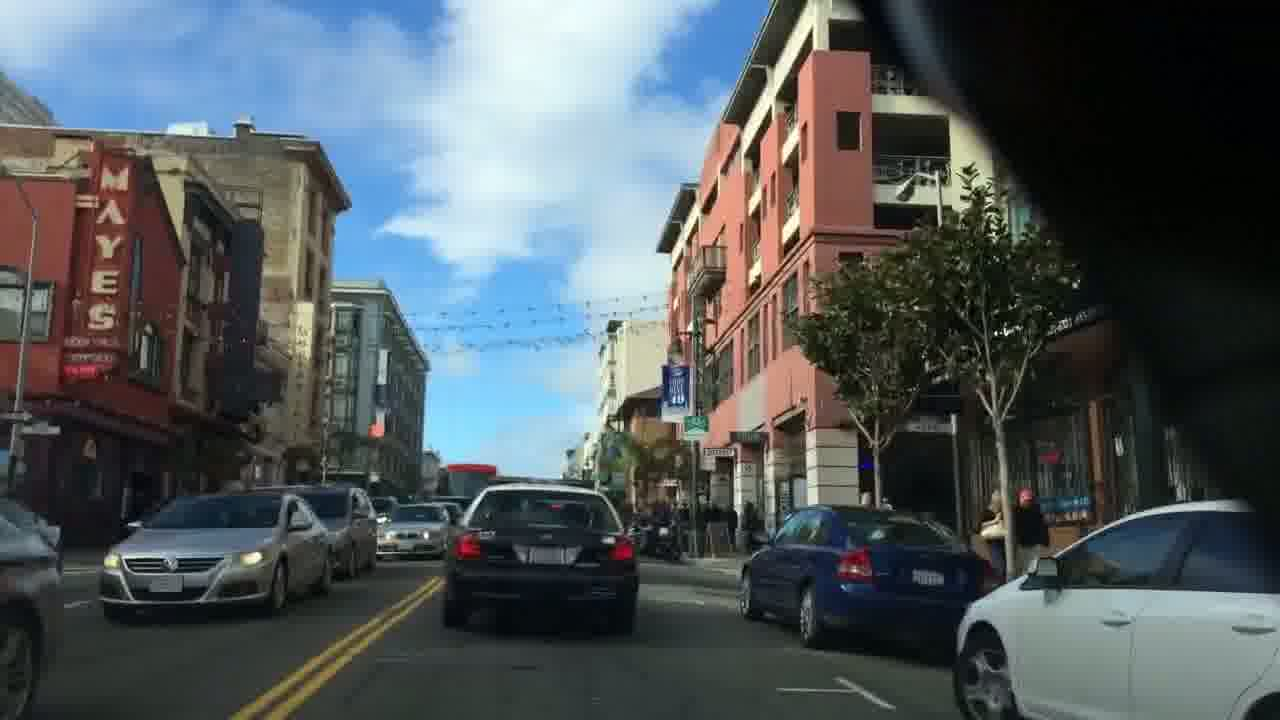car: (949, 495, 1280, 720), (736, 502, 986, 649), (95, 489, 333, 625), (440, 480, 640, 635), (282, 483, 378, 577), (376, 500, 450, 561)
pedestrian: (1013, 486, 1050, 573), (977, 489, 1006, 582), (739, 499, 758, 554)
